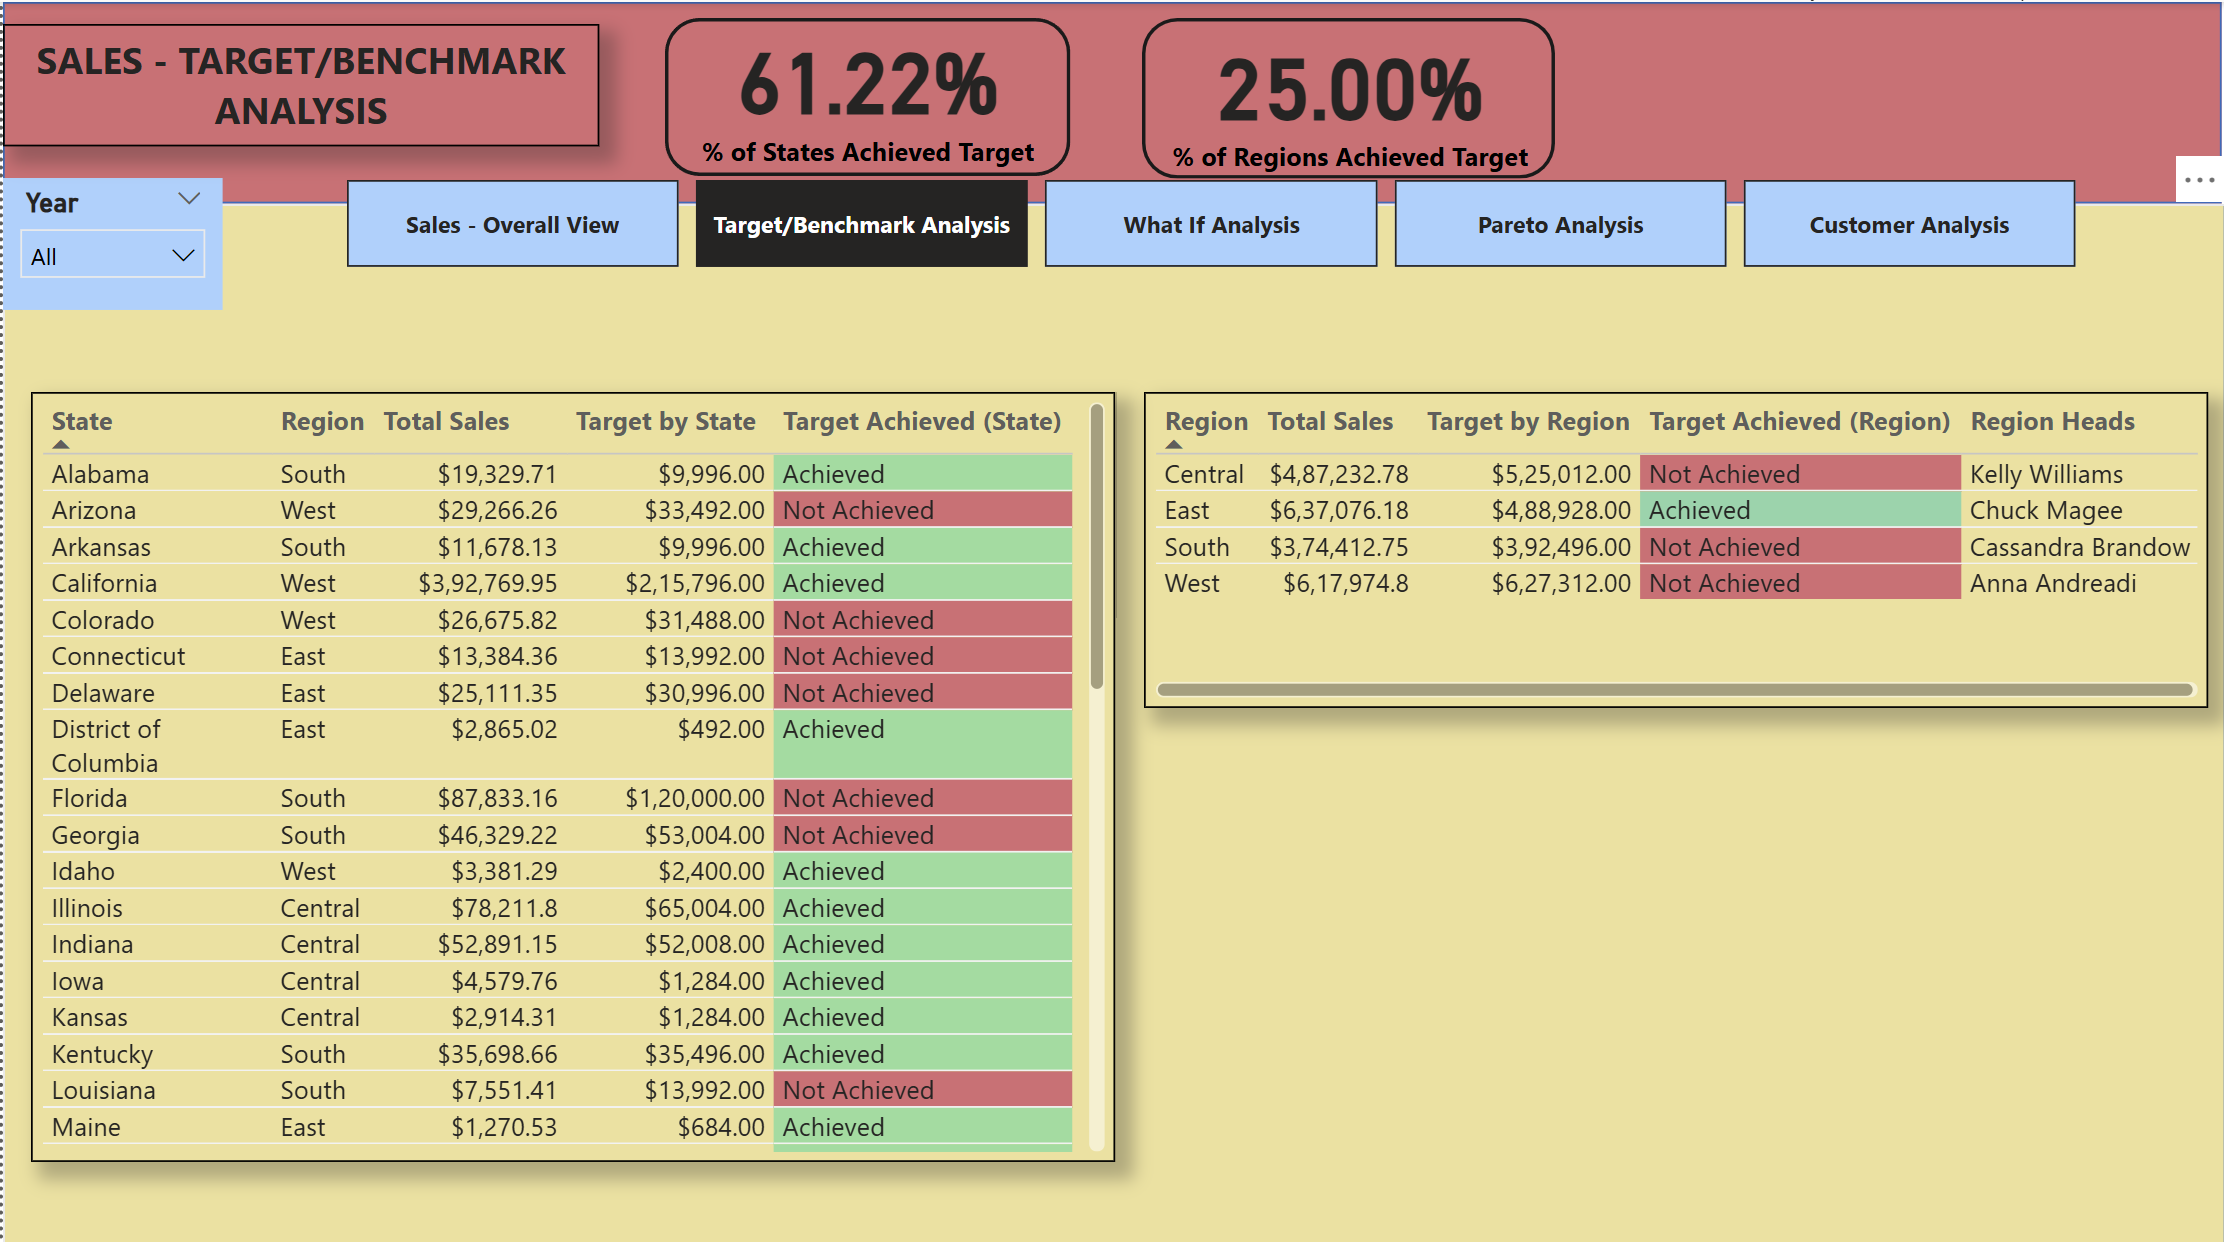

What the dashboard file says about the page in this screenshot:
{"tool":"powerbi","page":{"name":"Target/Benchmark Analysis","canvas":[1280,720],"ordinal":1},"visuals":[{"type":"shape","box":[0,0,1280,116.2],"z":0},{"type":"shape","box":[0,116.5,1280,603.2],"z":1000},{"type":"tableEx","fields":{"Values":["Bridge Table.State","Bridge Table.Region","Measure Table.Total Sales","Measure Table.Target by State","Measure Table.Target Achieved (State)"]},"box":[16.1,224.6,624.4,443.5],"z":2000},{"type":"slicer","fields":{"Values":["Calendar.Year"]},"box":[0,101.4,126.7,76],"z":3000},{"type":"tableEx","fields":{"Values":["Bridge Table.Region","Measure Table.Total Sales","Measure Table.Target by Region","Measure Table.Target Achieved (Region)","Region Heads.Person"]},"box":[656.6,224.6,612.9,182],"z":4000},{"type":"card","fields":{"Values":["Measure Table.Percentage of Regions Achieved"]},"box":[656.6,0,237.3,108.3],"z":5000},{"type":"card","fields":{"Values":["Measure Table.% of States Achieved Target"]},"box":[365.2,0,266.1,102.5],"z":6000},{"type":"shape","box":[381.8,9.2,233.8,91.1],"z":7000},{"type":"shape","box":[655.2,9.2,237.8,92.5],"z":8000},{"type":"pageNavigator","box":[198.1,102.5,999.9,50.7],"z":9000},{"type":"textbox","box":[0,12.7,343.3,70.3],"z":10000}]}

Visuals, with their boxes in screenshot pixels (x1, y1, x2, y2), scaled from the page's 1280x720 canvas onto the 2224x1242 screenshot:
shape: Rect(0, 0, 2223, 200)
shape: Rect(0, 201, 2223, 1241)
tableEx - Bridge Table.State x Bridge Table.Region: Rect(28, 387, 1113, 1152)
slicer - Calendar.Year: Rect(0, 175, 220, 306)
tableEx - Bridge Table.Region x Measure Table.Total Sales: Rect(1141, 387, 2206, 701)
card - Measure Table.Percentage of Regions Achieved: Rect(1141, 0, 1553, 187)
card - Measure Table.% of States Achieved Target: Rect(635, 0, 1097, 177)
shape: Rect(663, 16, 1070, 173)
shape: Rect(1138, 16, 1552, 175)
pageNavigator: Rect(344, 177, 2082, 264)
textbox: Rect(0, 22, 596, 143)
